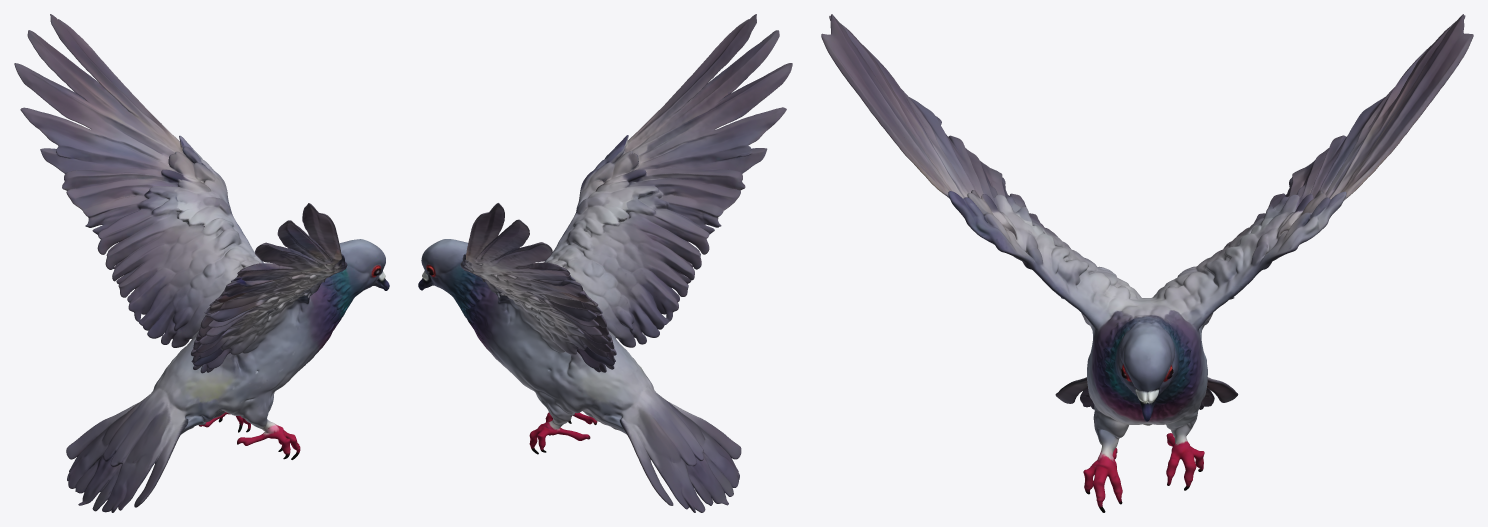
The model's file is tripo_convert_24c8a29c-a4ea-40f5-b13a-fda1d5340065.fbx.
3 views of the same model, side by side, from view 1: azimuth 30°, elevation 25°; view 2: azimuth 150°, elevation 25°; view 3: azimuth 270°, elevation 25° (orthographic). The views are drawn at different scales.
Parts seen in each view (by area): view 1: tripo_node_24c8a29c; view 2: tripo_node_24c8a29c; view 3: tripo_node_24c8a29c.
Part boxes in pixels (x1,y1,x2,y2): tripo_node_24c8a29c: (14,14,389,512); tripo_node_24c8a29c: (418,14,792,512); tripo_node_24c8a29c: (821,14,1473,512).
Size of the model in its own units: 0.6718 by 0.7702 by 1.
1 material, 1 textured.
